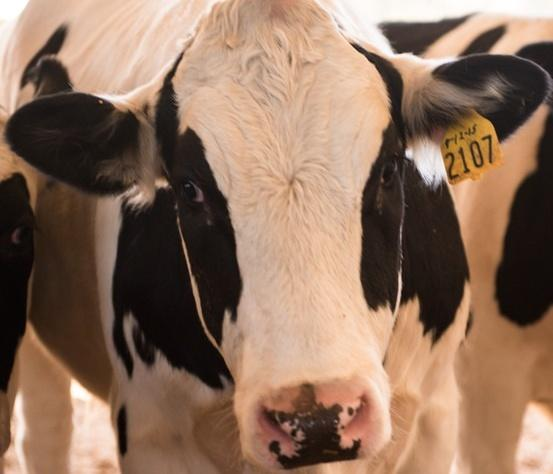muzzles: (230, 375, 395, 472)
